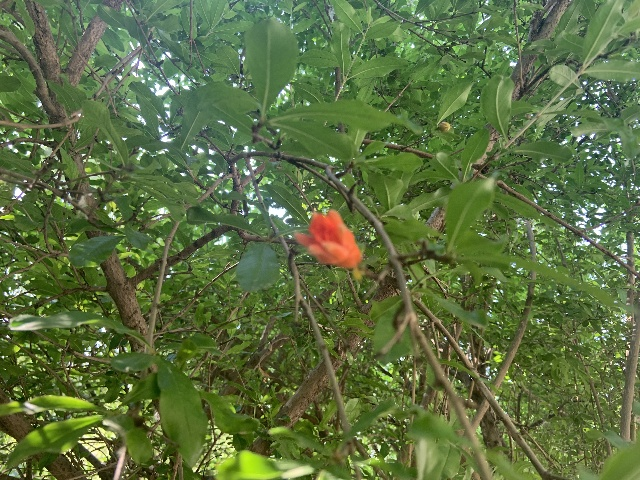bud: (437, 121, 450, 132)
flower: (295, 208, 361, 268)
